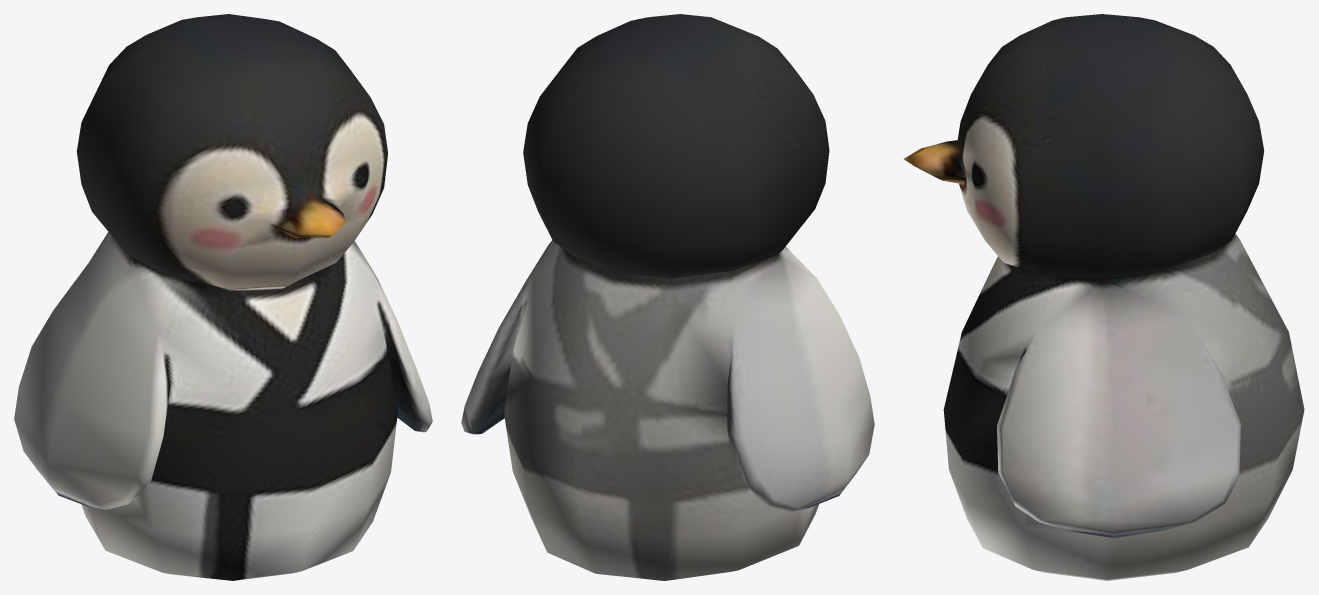
File: penguin-08-31-black-and-white-zen-kokeshi-penguin.gltf
3 views of the same model, side by side, from view 1: azimuth 30°, elevation 25°; view 2: azimuth 150°, elevation 25°; view 3: azimuth 270°, elevation 25° (orthographic).
Visible parts, largest first — view 1: penguin-08-31-black-and-white-zen-kokeshi-penguin; view 2: penguin-08-31-black-and-white-zen-kokeshi-penguin; view 3: penguin-08-31-black-and-white-zen-kokeshi-penguin.
Part boxes in pixels (x1,y1,x2,y2): penguin-08-31-black-and-white-zen-kokeshi-penguin: (14,14,432,580); penguin-08-31-black-and-white-zen-kokeshi-penguin: (461,14,874,580); penguin-08-31-black-and-white-zen-kokeshi-penguin: (904,14,1304,580).
Bounding box in the file's own units: 0.2 × 0.2669 × 0.1931.
1 material, 1 textured.
